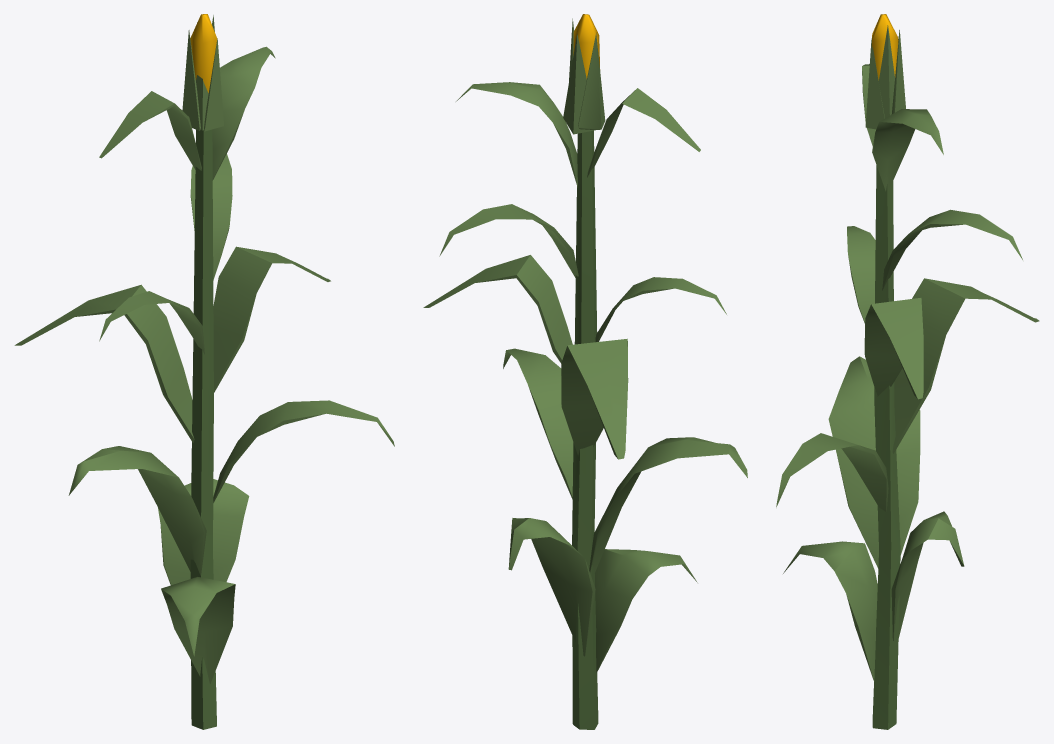
The model's file is SM_Plants_CornPlant_01.obj.
The picture shows the model from 3 angles, left to right: view 1: azimuth 30°, elevation 25°; view 2: azimuth 150°, elevation 25°; view 3: azimuth 270°, elevation 25°; orthographic projection.
Parts seen in each view (by area): view 1: SM_Plants_CornPlant_01_Mat_SwatchOverlay_Farm_01_Inst; view 2: SM_Plants_CornPlant_01_Mat_SwatchOverlay_Farm_01_Inst; view 3: SM_Plants_CornPlant_01_Mat_SwatchOverlay_Farm_01_Inst.
Boxes of the visible parts, left/top/right/bottom form: SM_Plants_CornPlant_01_Mat_SwatchOverlay_Farm_01_Inst: left=14, top=14, right=394, bottom=729; SM_Plants_CornPlant_01_Mat_SwatchOverlay_Farm_01_Inst: left=423, top=14, right=747, bottom=729; SM_Plants_CornPlant_01_Mat_SwatchOverlay_Farm_01_Inst: left=776, top=14, right=1039, bottom=729.
Size of the model in its own units: 0.5908 by 1.37 by 0.4608.
1 material, 1 textured.
